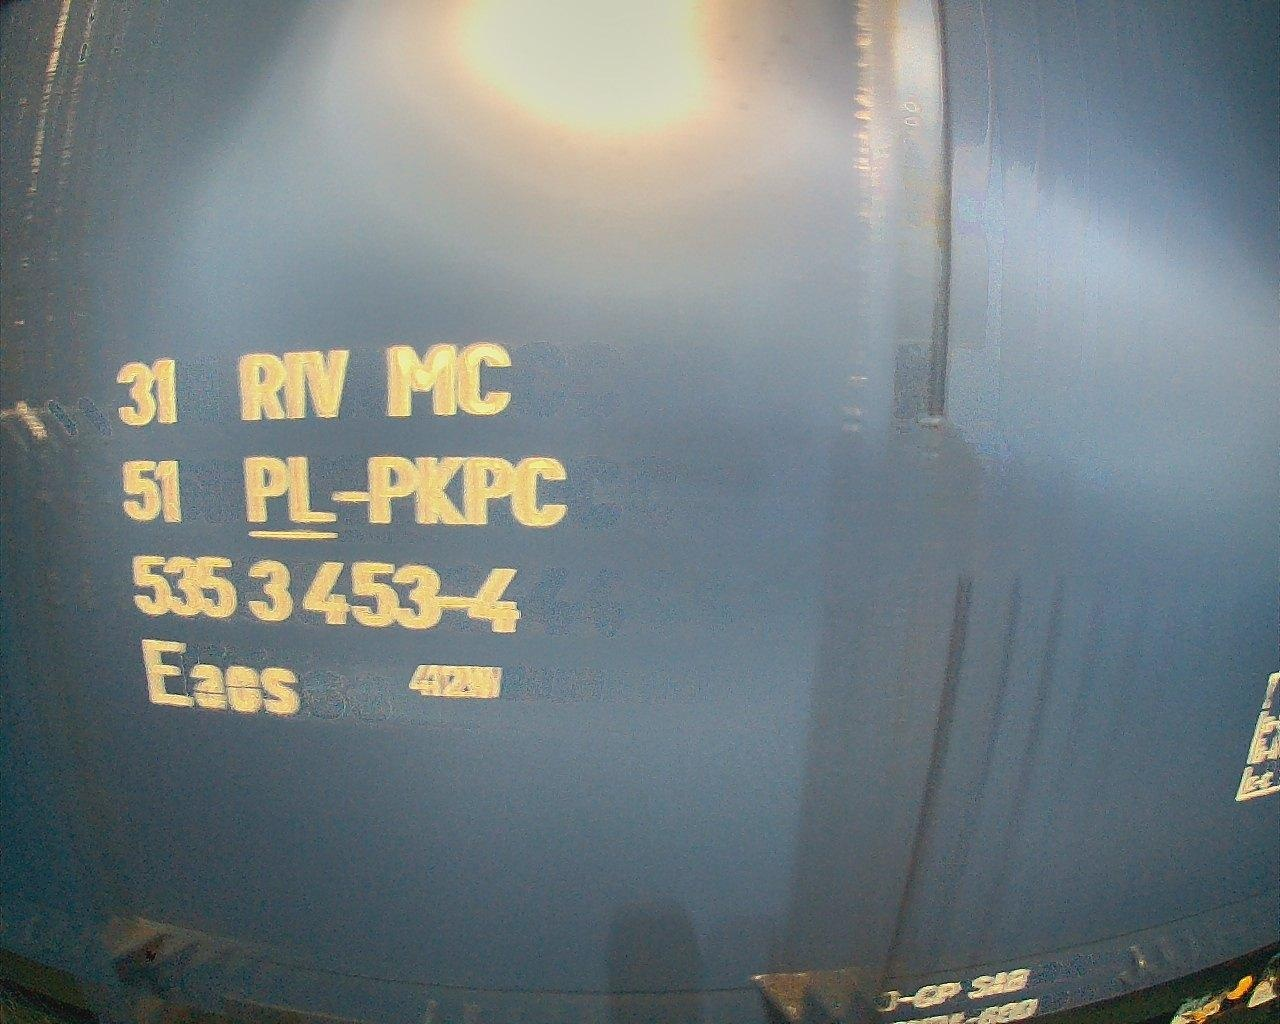UIC: (112, 338, 573, 718)
